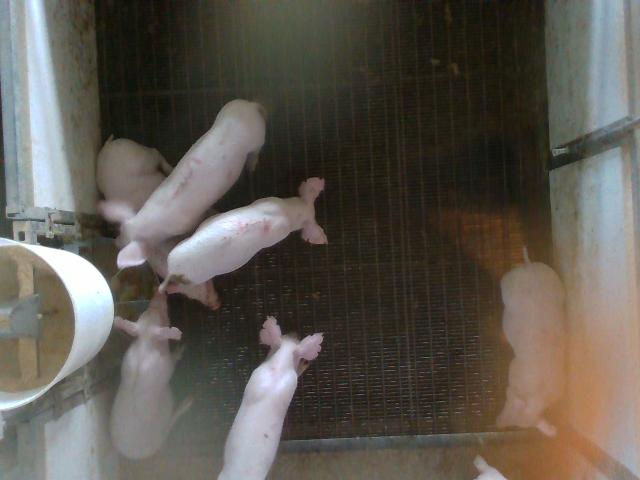pig-3: (99, 100, 265, 268)
pig-4: (496, 249, 565, 428)
pig-5: (159, 178, 328, 291)
